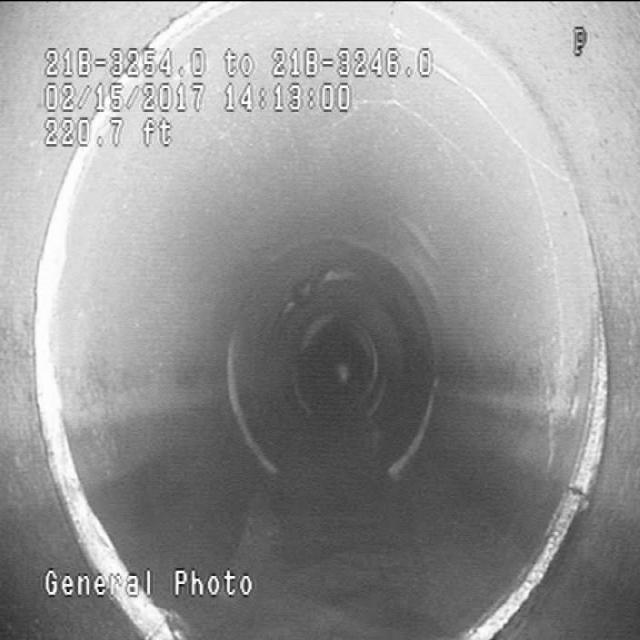Crack: (411, 19, 589, 217)
